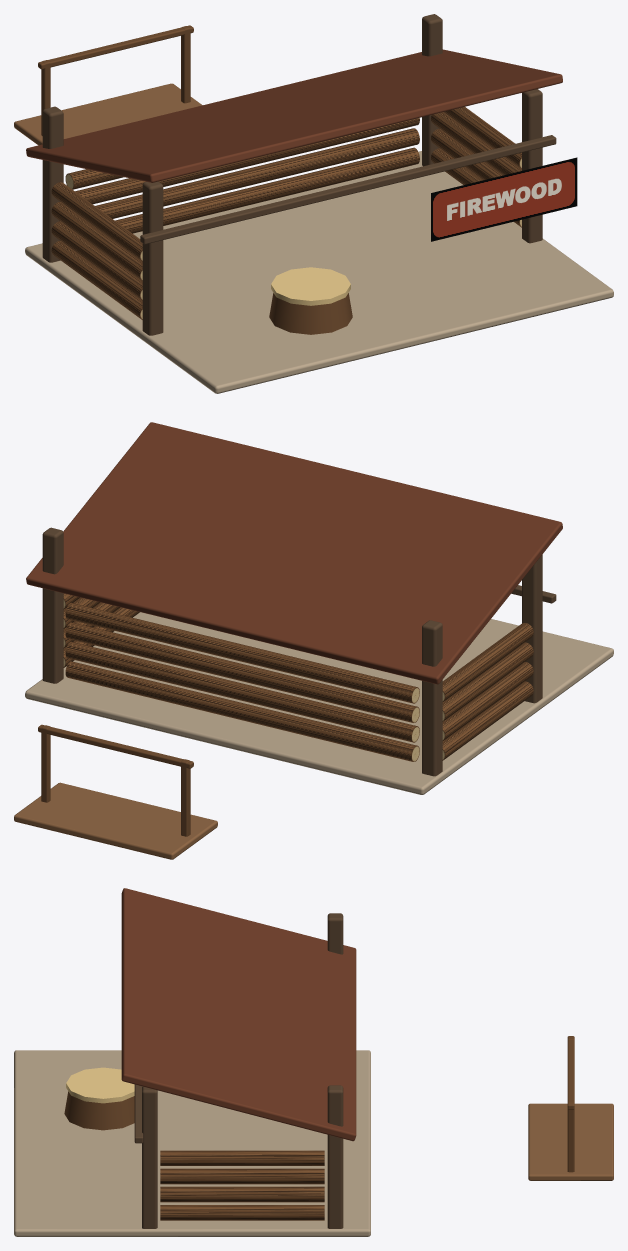
The model's file is firewood.glb.
3 views of the same model, one above another, from view 1: azimuth 30°, elevation 25°; view 2: azimuth 150°, elevation 25°; view 3: azimuth 270°, elevation 25° (orthographic). The views are drawn at different scales.
Bounding box in the file's own units: 6.2 × 2.57 × 8.4.
Materials: 10 (4 with a texture image).
